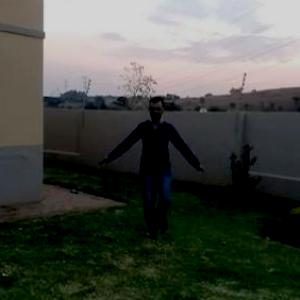land: (103, 85, 212, 247)
